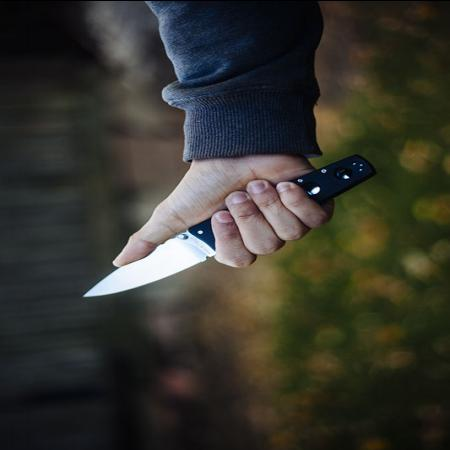long weapon: (72, 189, 282, 305)
